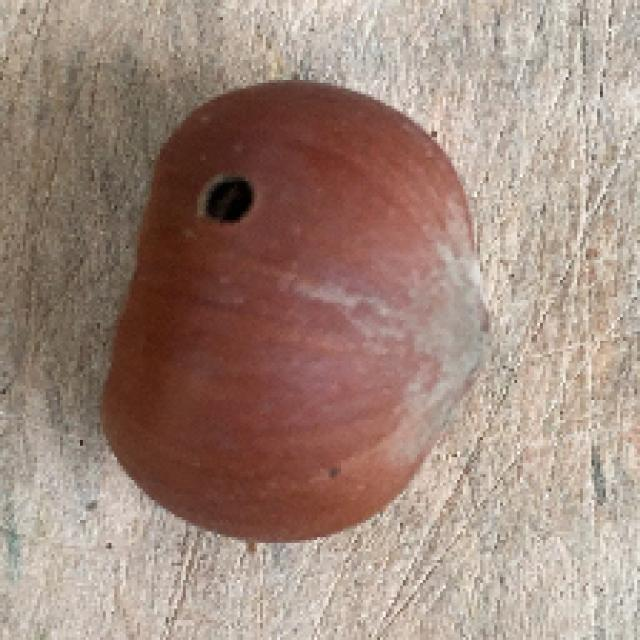damagedHazelnut: (101, 66, 496, 544)
